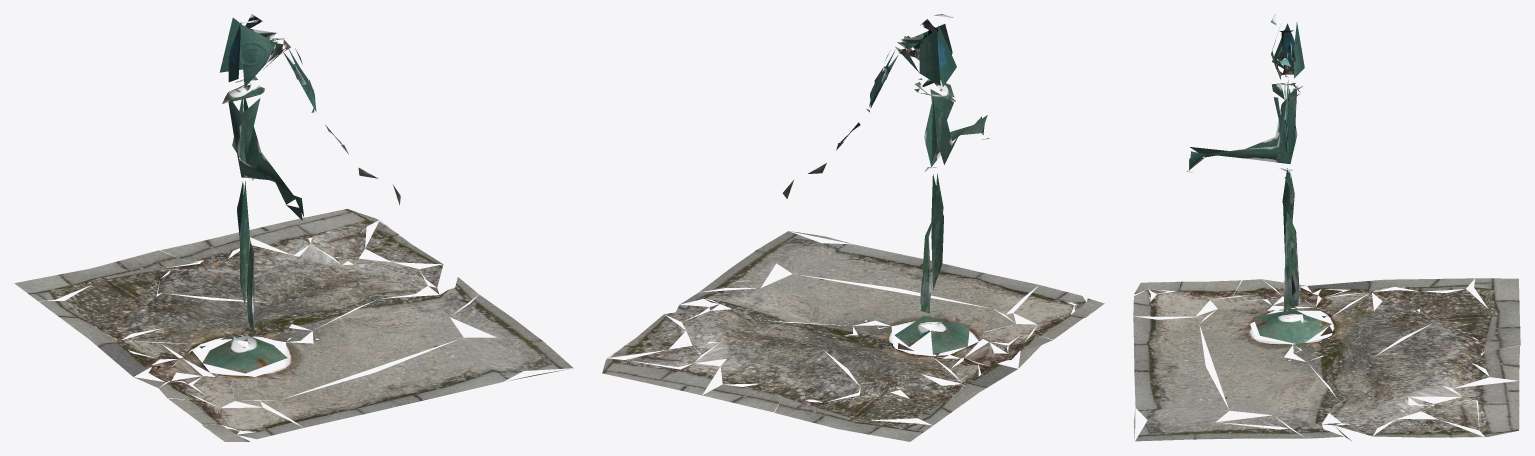
File: vh_well.glb
The picture shows the model from 3 angles, left to right: view 1: azimuth 30°, elevation 25°; view 2: azimuth 150°, elevation 25°; view 3: azimuth 270°, elevation 25°; orthographic projection. The views are drawn at different scales.
Visible parts, largest first — view 1: Object_2; view 2: Object_2; view 3: Object_2.
Boxes of the visible parts, x1,y1,x2,y2 form: Object_2: (14,14,573,441); Object_2: (602,14,1104,441); Object_2: (1133,14,1520,441).
Bounding box in the file's own units: 1.22 × 1.17 × 1.31.
1 material, 1 textured.
